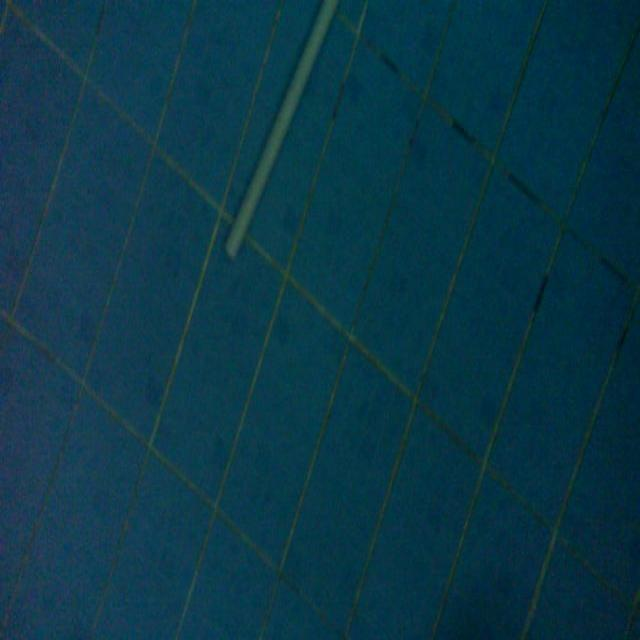Cube: (222, 0, 340, 261)
